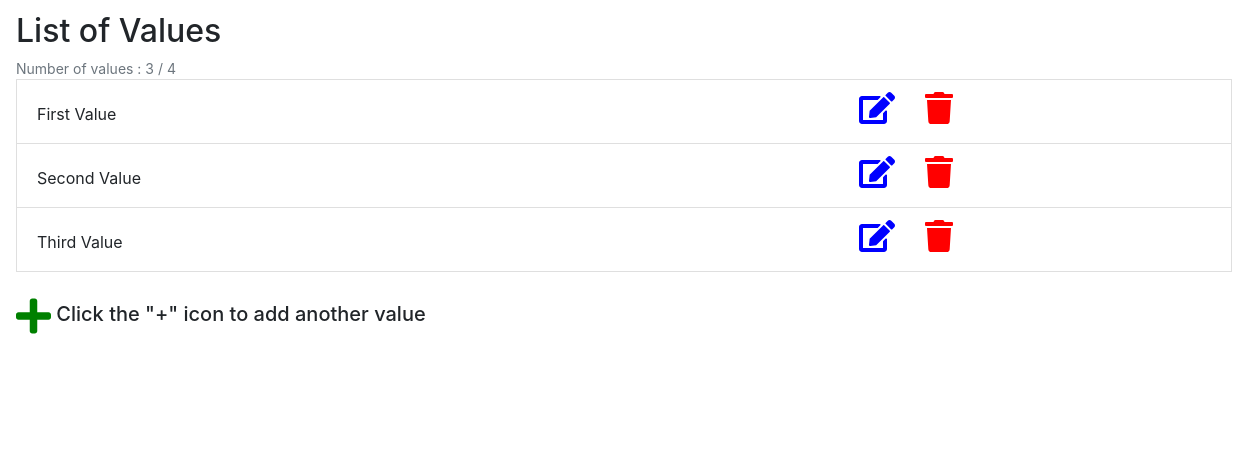
Value component with 3 values › displays the edit component when clicking the plus icon
Step 1. Click the picture next to "Click the \"+\" icon to add another value" → (34, 316), box [16,296,51,336]
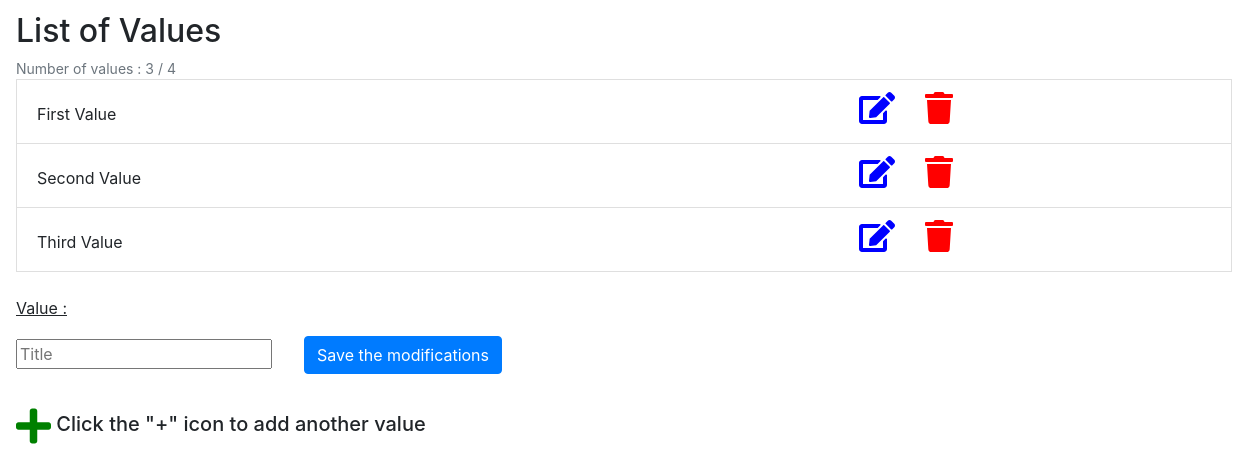
Check: the element showing "Value : Save the modifications" is shown, box [16,298,502,374]
